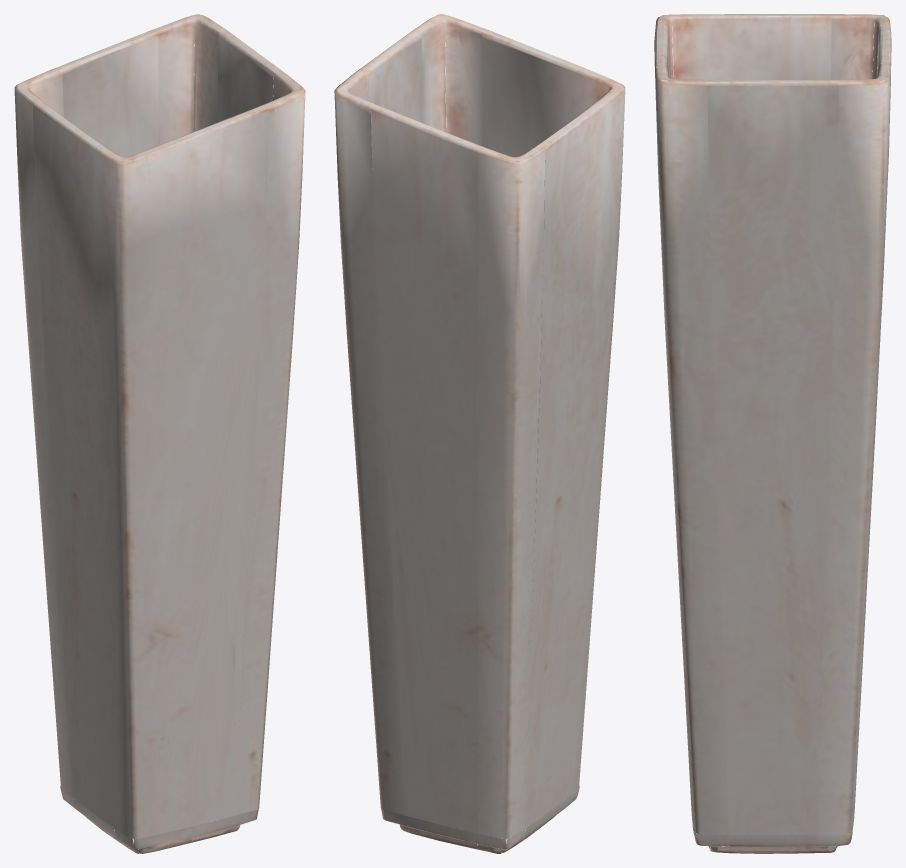
Rendered from ceramic_vase_03.gltf.
3 views of the same model, side by side, from view 1: azimuth 30°, elevation 25°; view 2: azimuth 150°, elevation 25°; view 3: azimuth 270°, elevation 25° (orthographic). The views are drawn at different scales.
Parts seen in each view (by area): view 1: ceramic_vase_03; view 2: ceramic_vase_03; view 3: ceramic_vase_03.
Part boxes in pixels (x1,y1,x2,y2): ceramic_vase_03: [14, 14, 305, 853]; ceramic_vase_03: [334, 14, 625, 853]; ceramic_vase_03: [654, 14, 891, 853].
Size of the model in its own units: 0.1122 by 0.4145 by 0.1124.
1 material, 1 textured.
